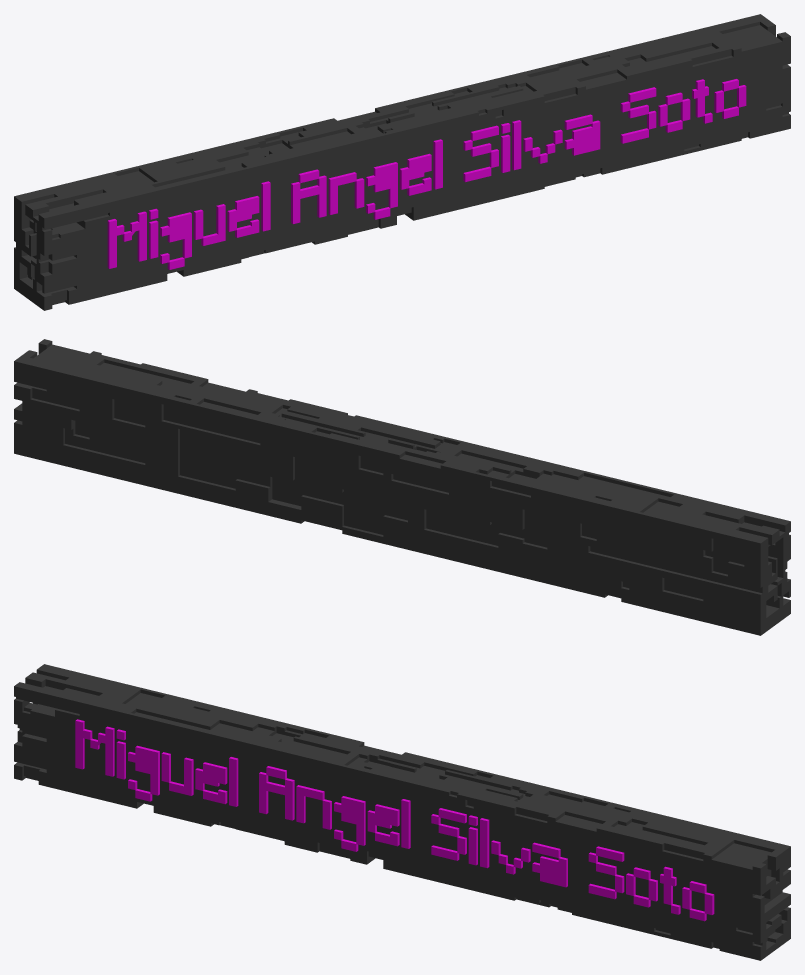
The model's file is MiguelASS.fbx.
The picture shows the model from 3 angles, top to bottom: view 1: azimuth 30°, elevation 25°; view 2: azimuth 150°, elevation 25°; view 3: azimuth 330°, elevation 25°; orthographic projection.
Parts seen in each view (by area): view 1: rectangulo_1:polySurface1, typeMesh3; view 2: rectangulo_1:polySurface1; view 3: rectangulo_1:polySurface1, typeMesh3.
Boxes of the visible parts, x1,y1,x2,y2 form: rectangulo_1:polySurface1: (14,14,790,310); typeMesh3: (107,79,746,269); rectangulo_1:polySurface1: (14,339,790,635); rectangulo_1:polySurface1: (14,664,790,960); typeMesh3: (75,719,714,921).
Bounding box in the file's own units: 22.82 × 2.7 × 1.7.
